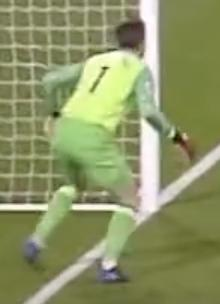goalkeeper: (9, 6, 213, 293)
